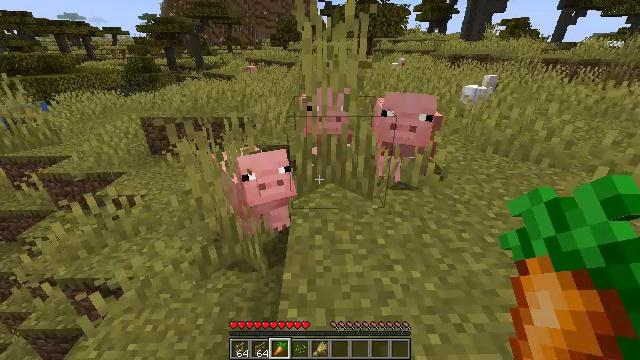chicken: (461, 74, 501, 105)
pig: (212, 147, 294, 237), (375, 93, 442, 188), (298, 86, 357, 174)
